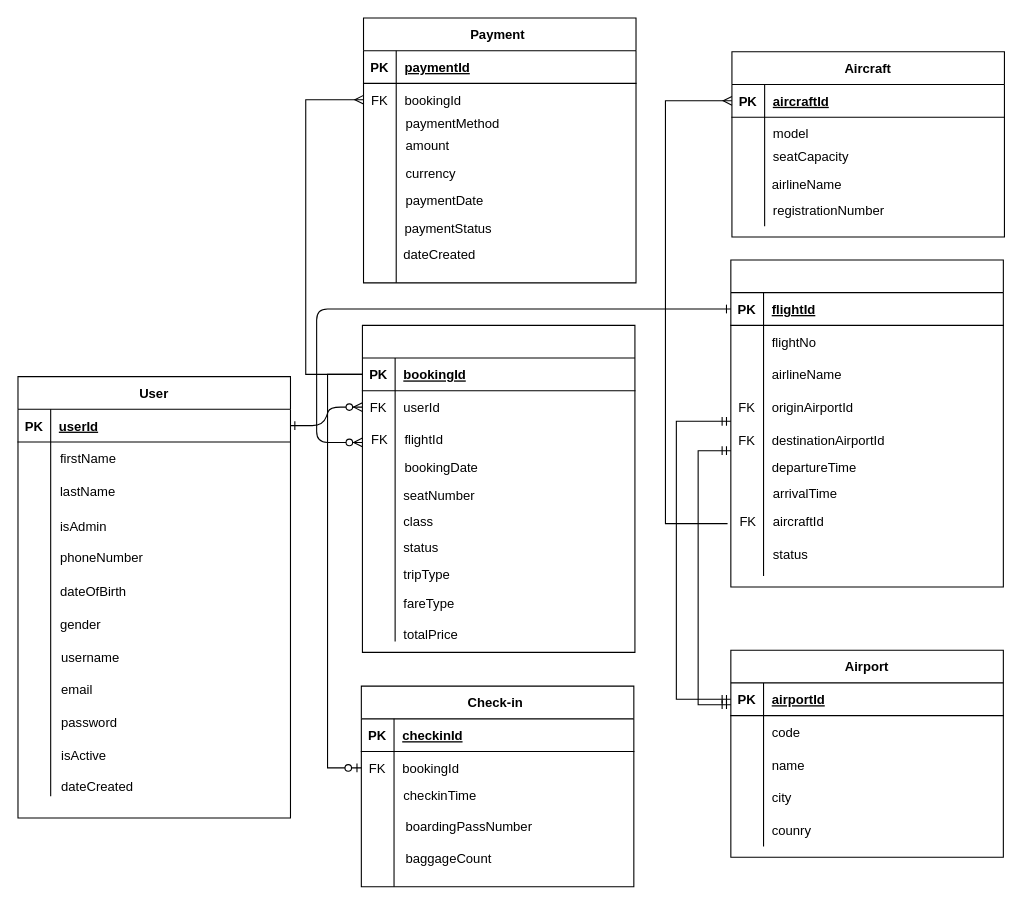
This 1022x905 diagram has some shape labels left out. Each missing label, with the box of its shape:
Flight Booking: (361, 324, 635, 652)
Flight Details: (730, 259, 1003, 587)
